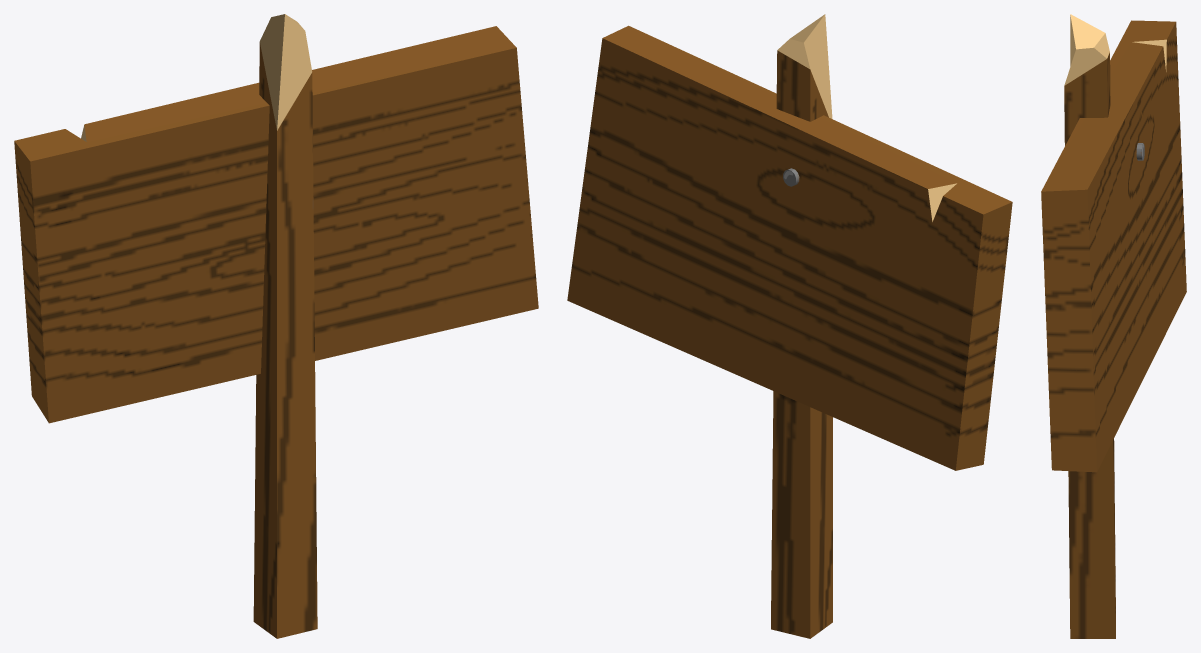
The model's file is SignNoPaper.fbx.
The picture shows the model from 3 angles, left to right: view 1: azimuth 30°, elevation 25°; view 2: azimuth 150°, elevation 25°; view 3: azimuth 270°, elevation 25°; orthographic projection. The views are drawn at different scales.
Parts seen in each view (by area): view 1: WoodenSign; view 2: WoodenSign; view 3: WoodenSign.
Part boxes in pixels (x1,y1,x2,y2): WoodenSign: (14, 14, 538, 638); WoodenSign: (567, 14, 1012, 638); WoodenSign: (1041, 14, 1186, 638).
Bounding box in the file's own units: 1.02 × 0.2763 × 1.28.
1 material, 1 textured.
